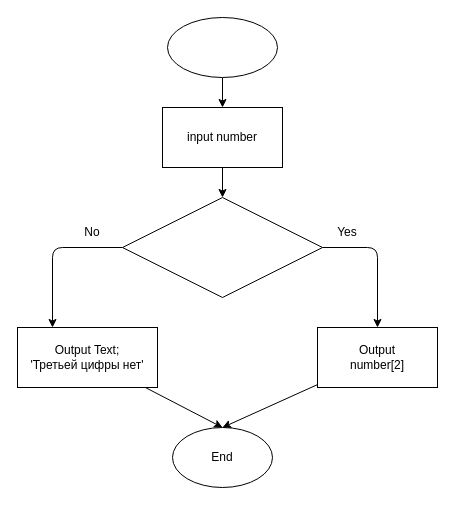
Some shapes in this 455 by 505 pixel diagram are drawn without their labels. The shapes that lost their labels are listed below. From the top down, each one's centre as x and y in pixels, then its label:
At pixel 222 47: "Start".
At pixel 222 247: "if number.Length > 2".
